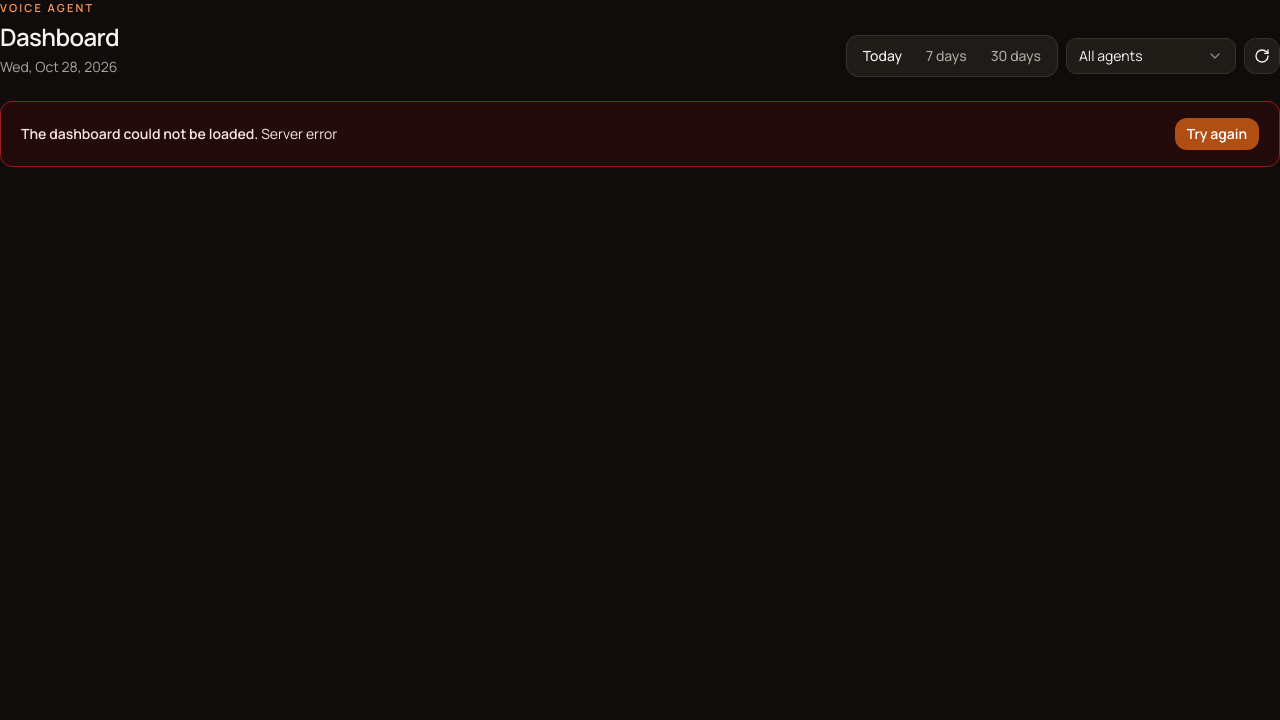
it: an API error shows an inline retry
This screenshot has width=1280, height=720.
Expected: the message shows "Server error", [261, 124, 337, 142]
Click the button "Try again".
click(1217, 134)  # box [1175, 118, 1259, 150]
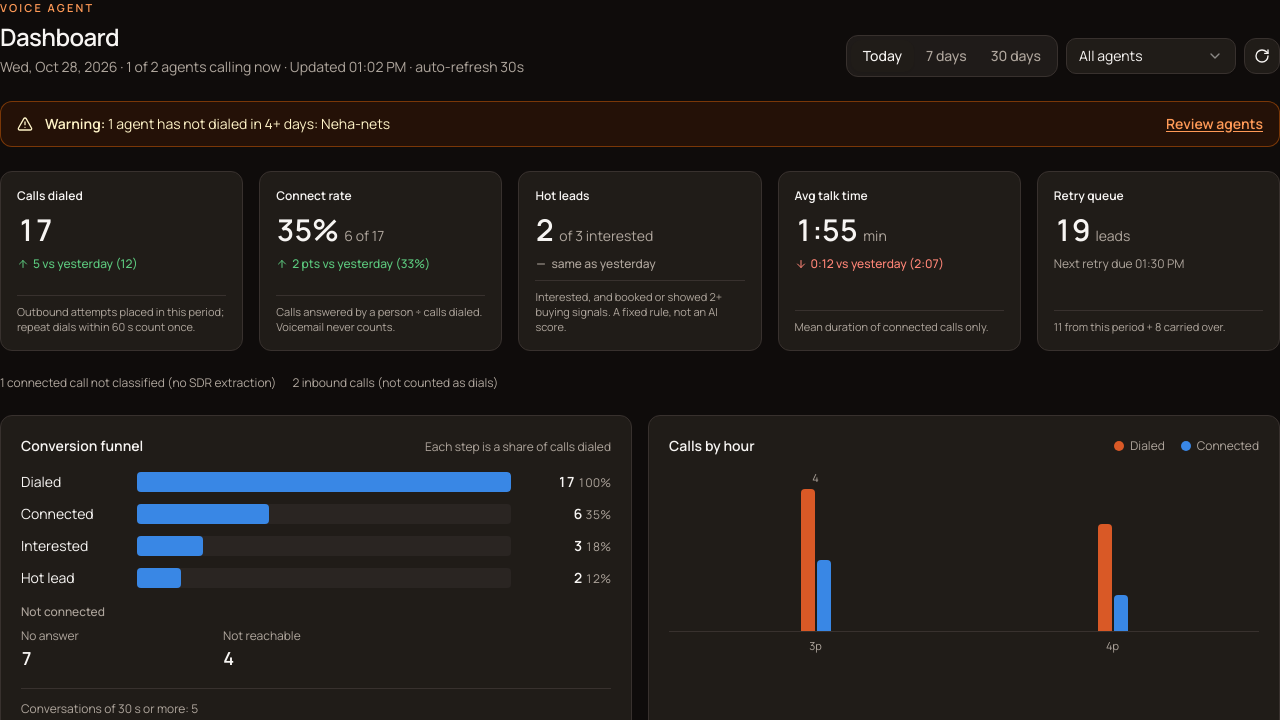
Result: the element "Calls dialed" is shown at [0, 170, 243, 351]
